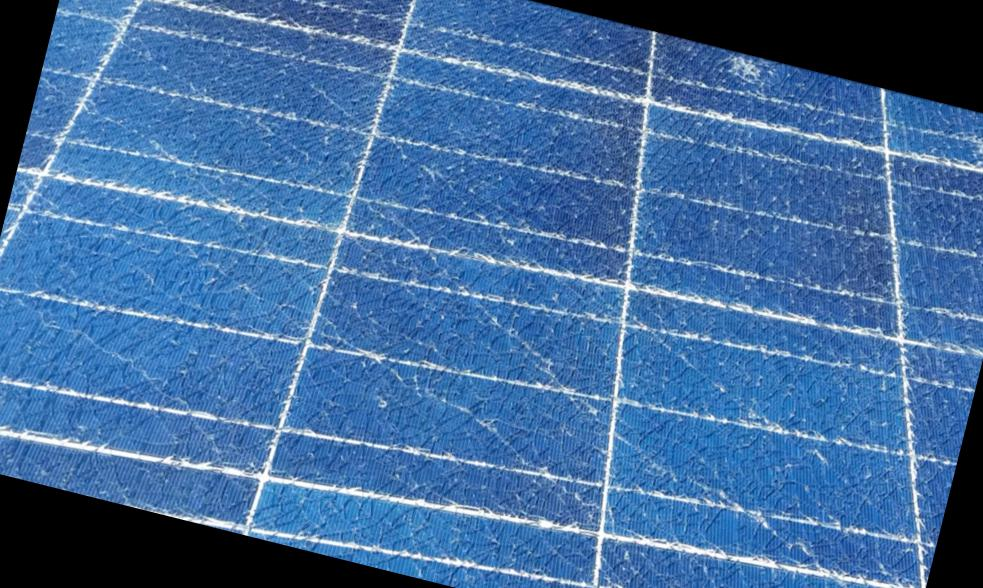Crack: (708, 50, 790, 108), (948, 122, 982, 190)
